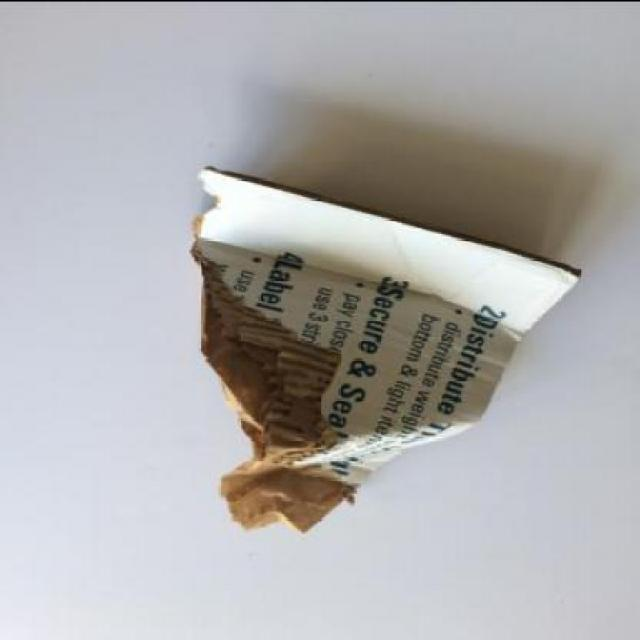box: (191, 167, 578, 536)
